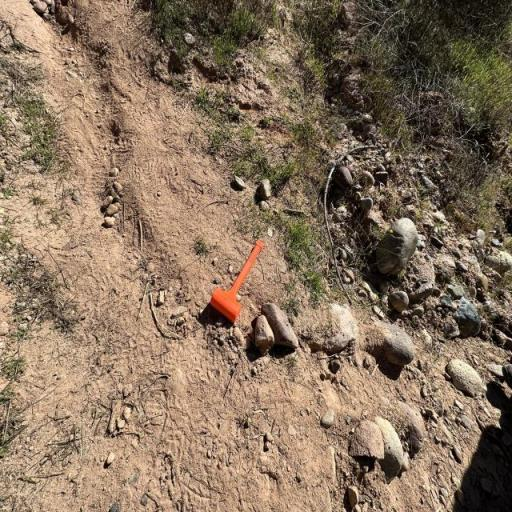mallet: (210, 240, 264, 322)
